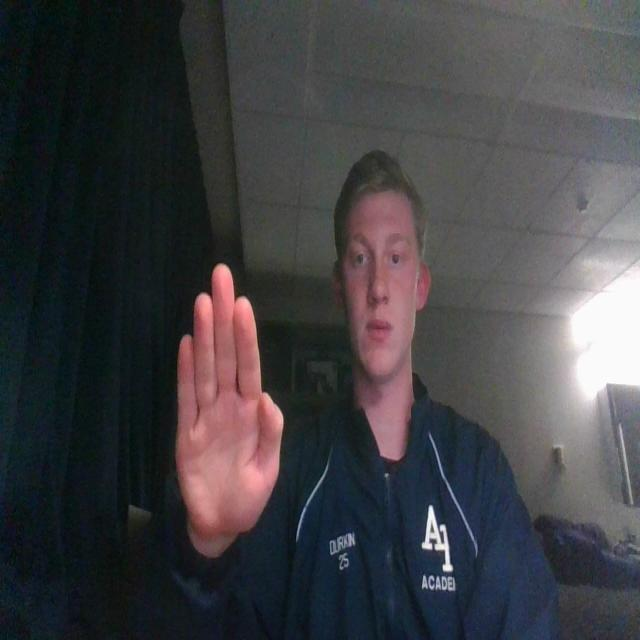paper: (166, 245, 286, 562)
